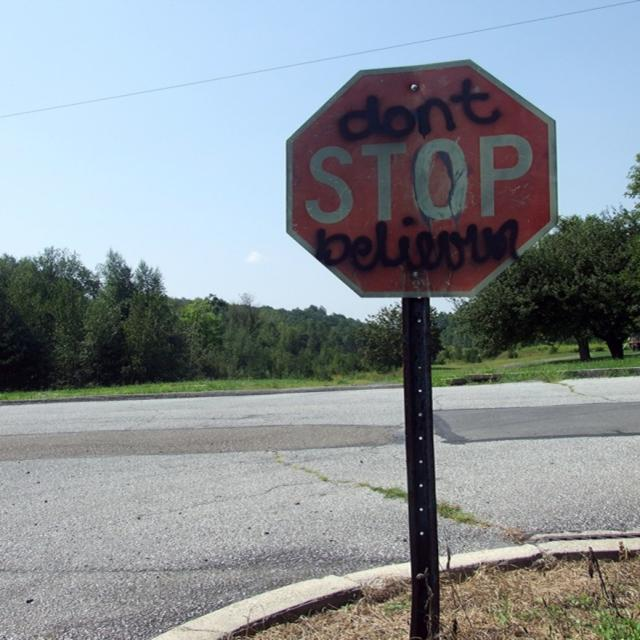Stop-sign: (283, 56, 558, 299)
